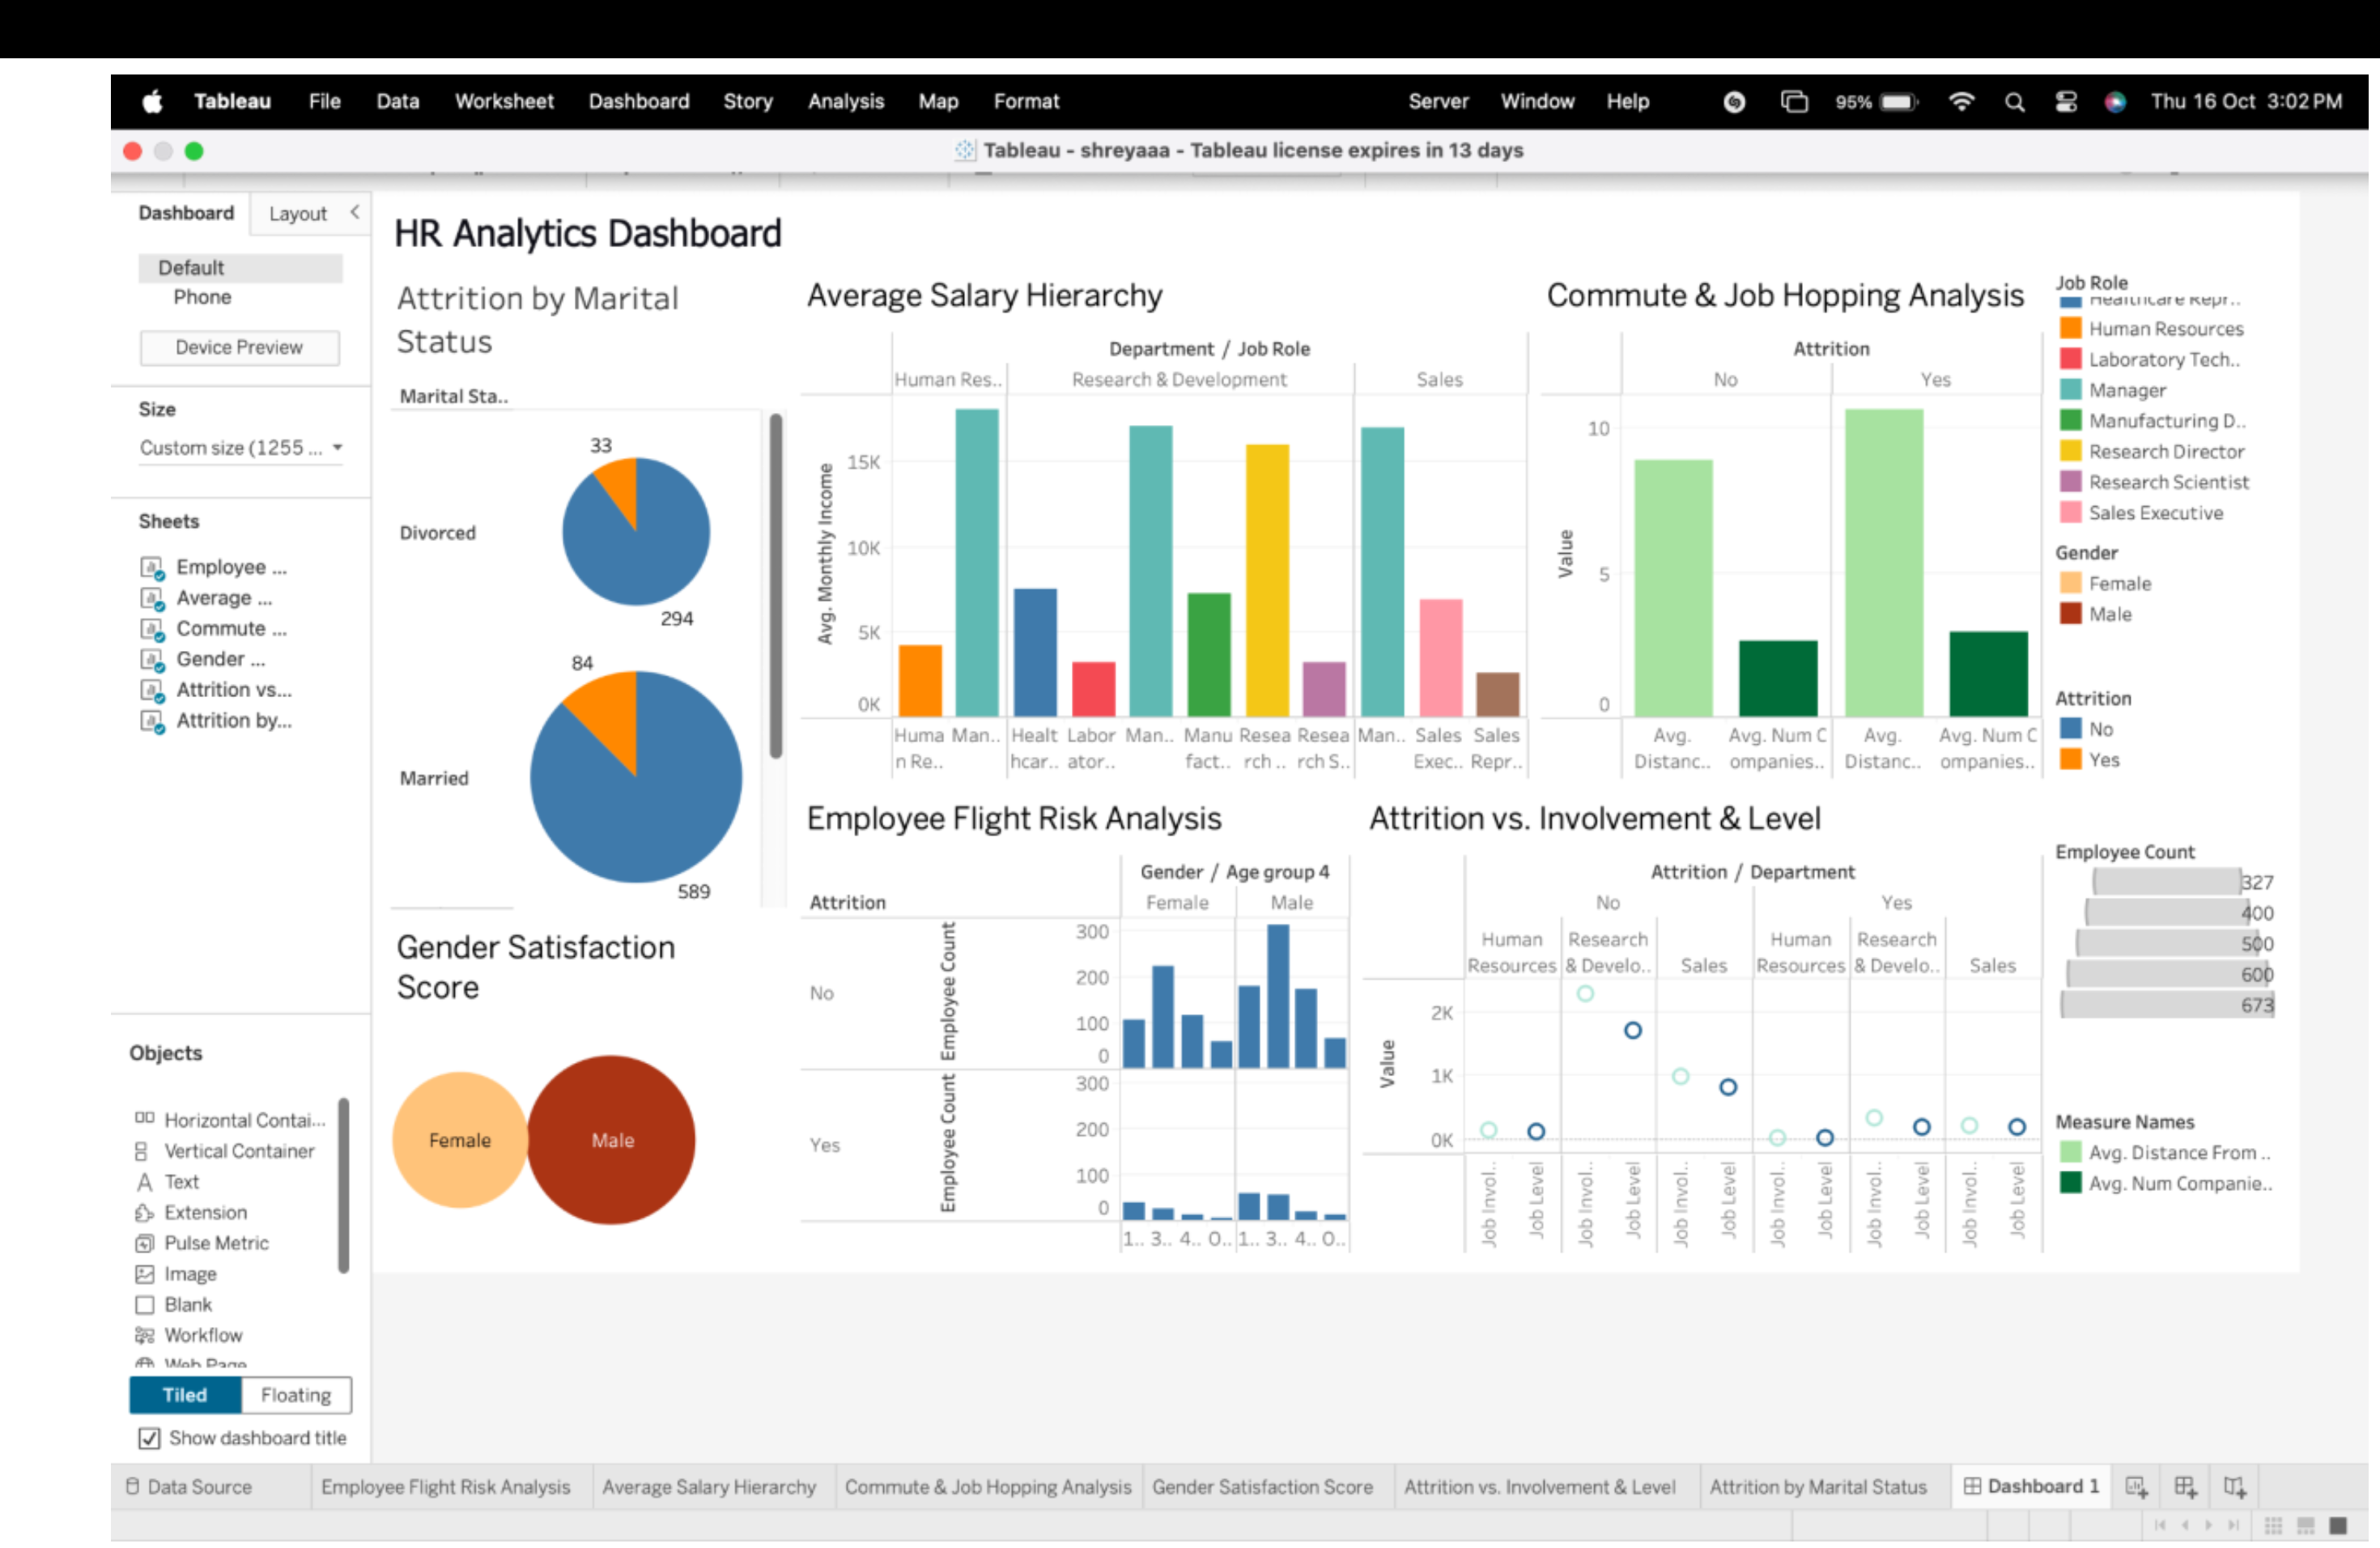

Layout of this report page (visuals, bound fields, positions):
{"tool":"tableau","page":{"name":"Dashboard 1","canvas":[1255,705],"ordinal":0},"visuals":[{"type":"worksheet","title":"Attrition by Marital Status","mark":"Pie","rows":["MaritalStatus"],"box":[8,8,254,450]},{"type":"worksheet","title":"Average Salary Hierarchy","mark":"Automatic","rows":["MonthlyIncome"],"cols":["Department","JobRole"],"box":[262,8,453,361]},{"type":"worksheet","title":"Commute & Job Hopping Analysis","mark":"Bar","cols":["Attrition"],"box":[715,8,317,361]},{"type":"legend","title":"Average Salary Hierarchy","param":"[federated.07wy8bx1wup2rf1edp61t0gmx1yx].[none:JobRole:nk]","box":[1032,8,215,206]},{"type":"legend","title":"Gender Satisfaction Score","param":"[federated.07wy8bx1wup2rf1edp61t0gmx1yx].[none:Gender:nk]","box":[1032,214,215,66]},{"type":"legend","title":"Attrition by Marital Status","param":"[federated.07wy8bx1wup2rf1edp61t0gmx1yx].[none:Attrition:nk]","box":[1032,280,215,66]},{"type":"legend","title":"Attrition by Marital Status","param":"[federated.07wy8bx1wup2rf1edp61t0gmx1yx].[sum:EmployeeCount:qk]","box":[1032,346,215,126]},{"type":"worksheet","title":"Employee Flight Risk Analysis","mark":"Automatic","rows":["Attrition","EmployeeCount"],"cols":["Gender"],"box":[262,369,365,328]},{"type":"worksheet","title":"Attrition vs. Involvement & Level","mark":"Shape","cols":["Attrition","Department"],"box":[627,369,405,328]},{"type":"worksheet","title":"Gender Satisfaction Score","mark":"Circle","box":[8,458,254,239]},{"type":"legend","title":"Commute & Job Hopping Analysis","param":"[federated.07wy8bx1wup2rf1edp61t0gmx1yx].[:Measure Names]","box":[1032,472,215,66]}]}

Visuals, with their boxes on the page's 1255x705 design canvas (x1, y1, x2, y2). These are canvas units, not pixel positions in the 2380x1548 screenshot, which may show the page scaled, cropped or inside an application window:
"Attrition by Marital Status" worksheet (Pie marks): <region>8, 8, 262, 458</region>
"Average Salary Hierarchy" worksheet: <region>262, 8, 715, 369</region>
"Commute & Job Hopping Analysis" worksheet (Bar marks): <region>715, 8, 1032, 369</region>
"Average Salary Hierarchy" legend: <region>1032, 8, 1247, 214</region>
"Gender Satisfaction Score" legend: <region>1032, 214, 1247, 280</region>
"Attrition by Marital Status" legend: <region>1032, 280, 1247, 346</region>
"Attrition by Marital Status" legend: <region>1032, 346, 1247, 472</region>
"Employee Flight Risk Analysis" worksheet: <region>262, 369, 627, 697</region>
"Attrition vs. Involvement & Level" worksheet (Shape marks): <region>627, 369, 1032, 697</region>
"Gender Satisfaction Score" worksheet (Circle marks): <region>8, 458, 262, 697</region>
"Commute & Job Hopping Analysis" legend: <region>1032, 472, 1247, 538</region>
